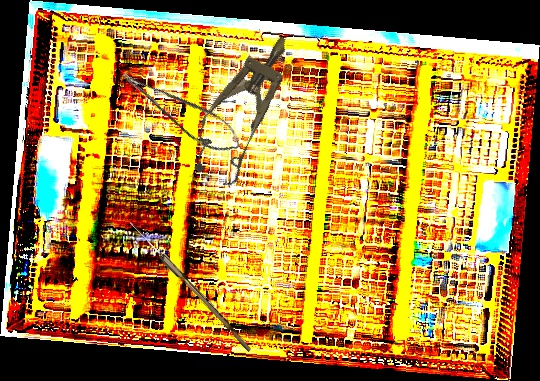Micro Scissor: (118, 51, 247, 166)
Speculum: (179, 22, 311, 192)
Surgical Spoon: (126, 220, 255, 352)
